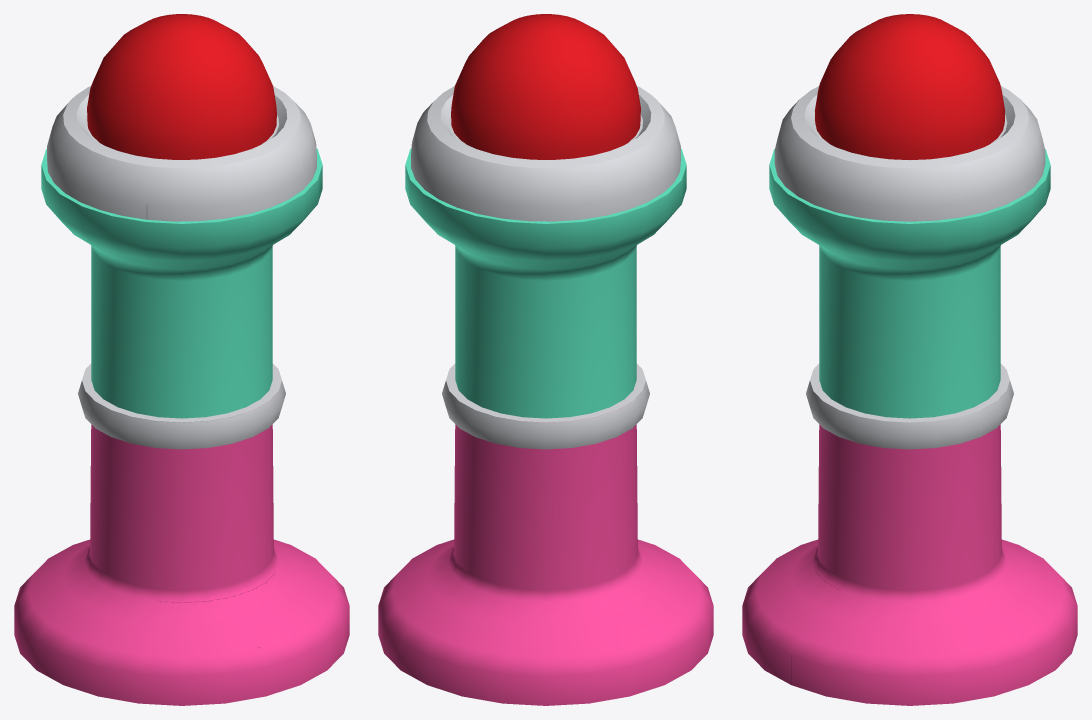
The model's file is SM_FS_Button.glb.
The picture shows the model from 3 angles, left to right: view 1: azimuth 30°, elevation 25°; view 2: azimuth 150°, elevation 25°; view 3: azimuth 270°, elevation 25°; orthographic projection.
Visible parts, largest first — view 1: SM_FS_Button; view 2: SM_FS_Button; view 3: SM_FS_Button.
Part boxes in pixels (x1=…): SM_FS_Button: x1=14, y1=14, x2=349, y2=705; SM_FS_Button: x1=378, y1=14, x2=713, y2=705; SM_FS_Button: x1=742, y1=14, x2=1077, y2=705.
Size of the model in its own units: 0.124 by 0.25 by 0.124.
1 material, 1 textured.
